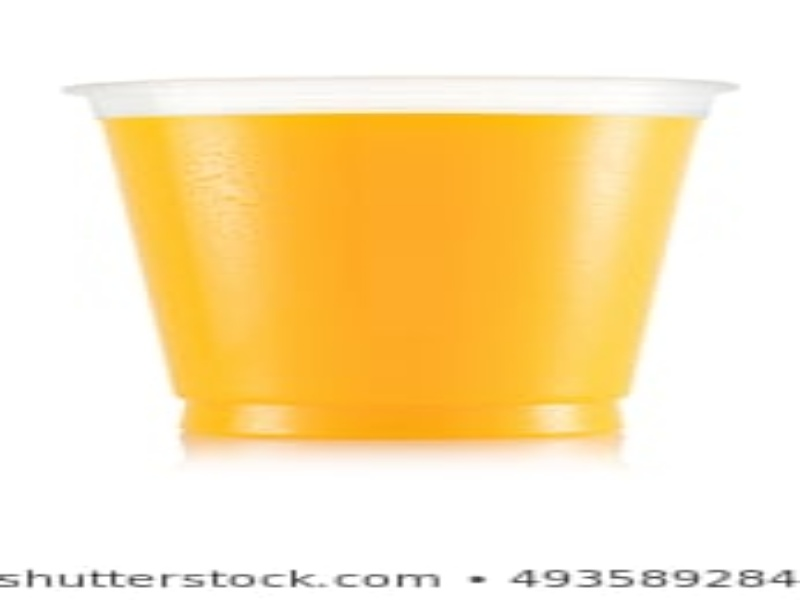plastic-cup: (64, 71, 741, 442)
